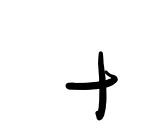plus: (66, 51, 115, 119)
